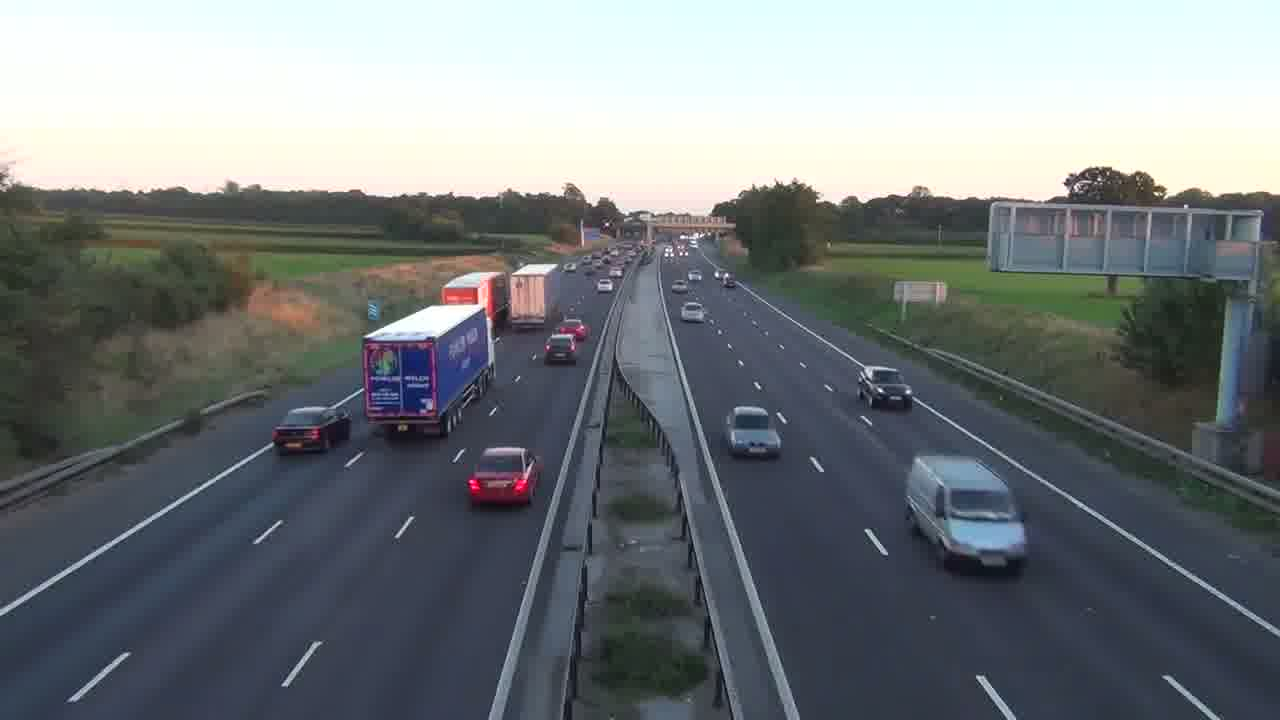bus: (361, 303, 493, 437)
car: (467, 446, 543, 508), (270, 404, 352, 454), (724, 405, 783, 459), (856, 366, 912, 412), (543, 333, 579, 365), (681, 300, 705, 324)
truck: (903, 451, 1028, 572)
